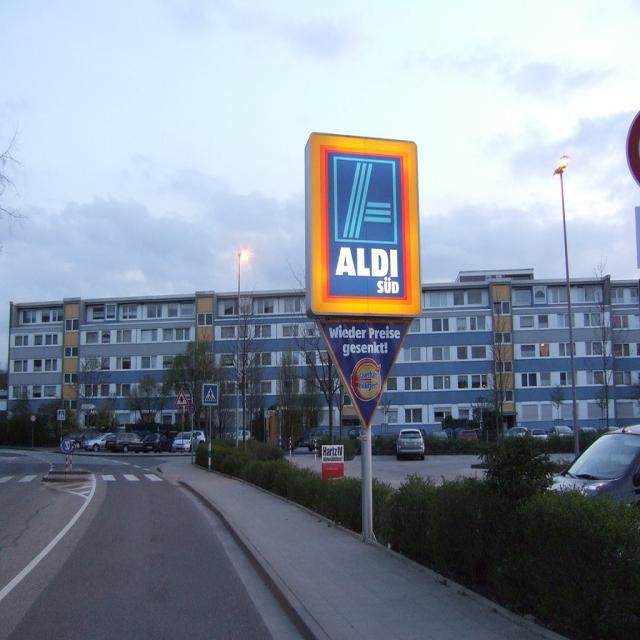aldi: (311, 135, 422, 316)
